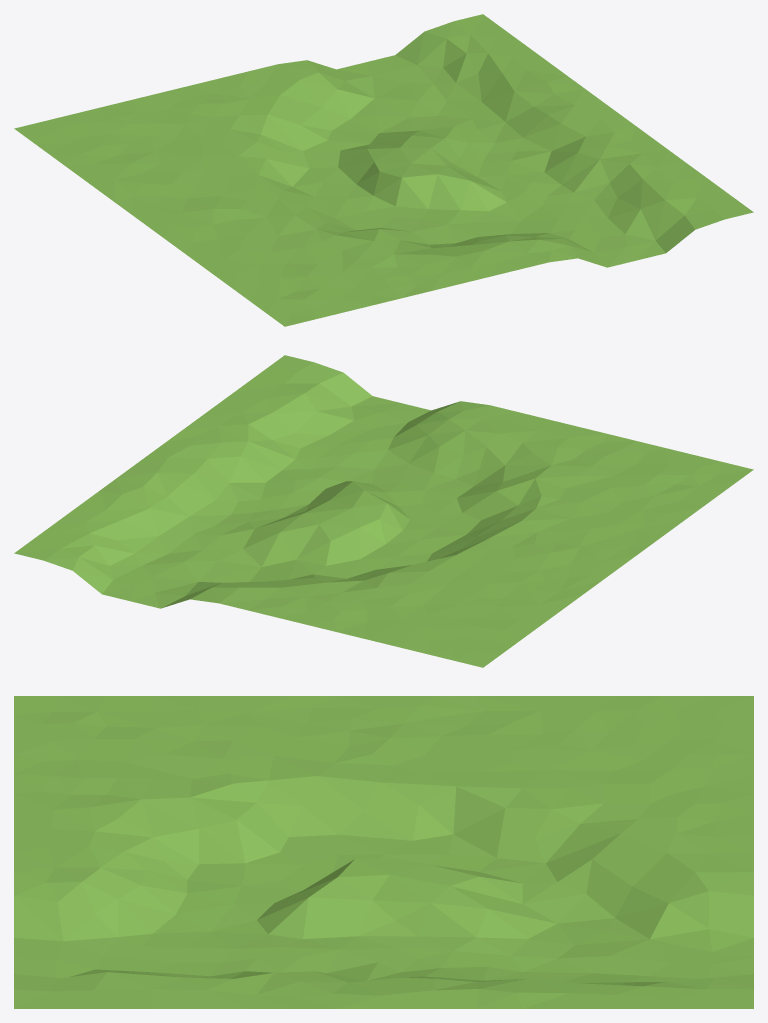
Rendered from MT_River_M_a_03_R.fbx.
The picture shows the model from 3 angles, top to bottom: view 1: azimuth 30°, elevation 25°; view 2: azimuth 150°, elevation 25°; view 3: azimuth 270°, elevation 25°; orthographic projection. The views are drawn at different scales.
Parts seen in each view (by area): view 1: MT_River_M_a_03_R; view 2: MT_River_M_a_03_R; view 3: MT_River_M_a_03_R.
Boxes of the visible parts, bbox=[...] form: MT_River_M_a_03_R: bbox=[14, 14, 753, 326]; MT_River_M_a_03_R: bbox=[14, 355, 753, 667]; MT_River_M_a_03_R: bbox=[14, 696, 753, 1008].
Bounding box in the file's own units: 5000 × 251 × 5000.
